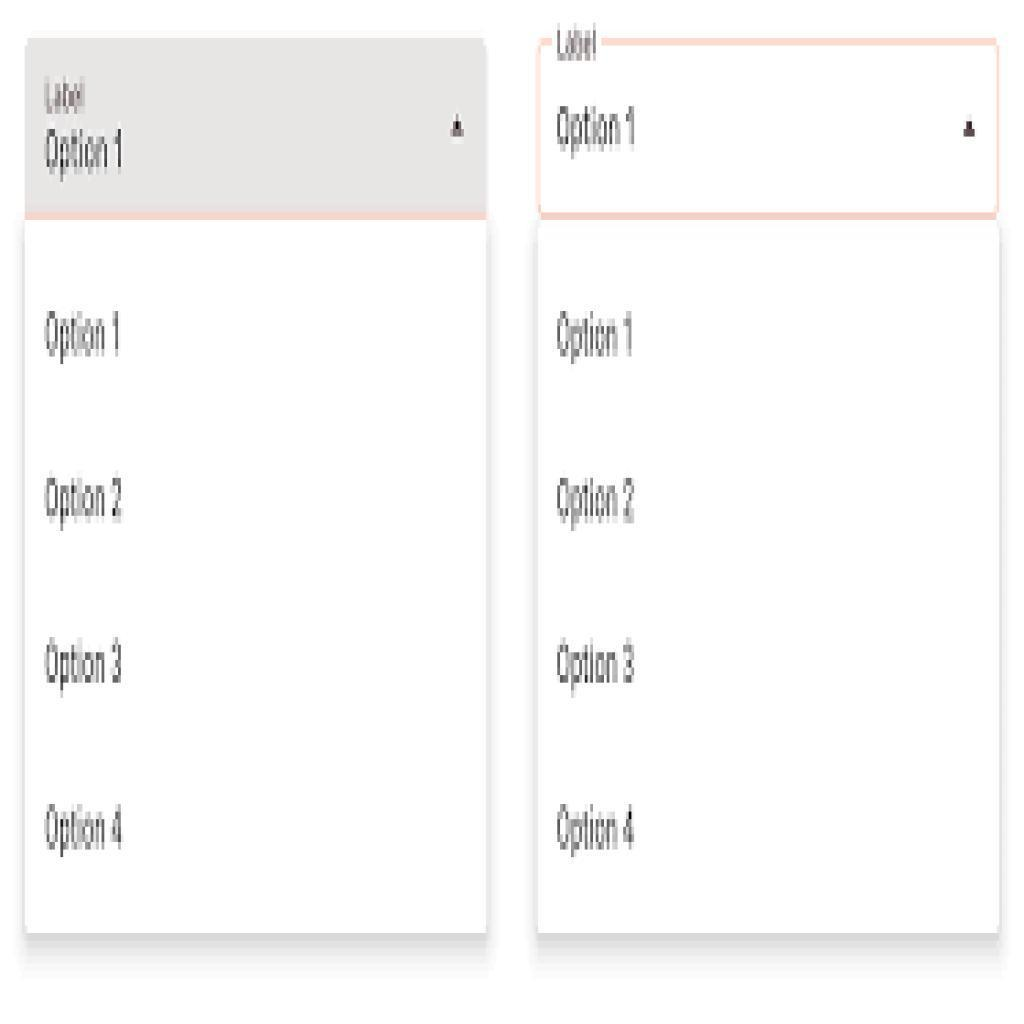dropdown: (536, 40, 1004, 218), (26, 38, 488, 218)
